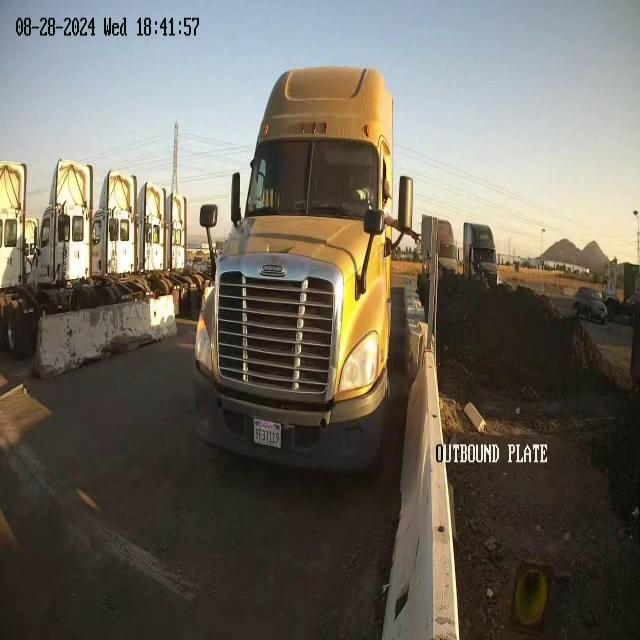TRUCK_OUT: (192, 64, 408, 478)
